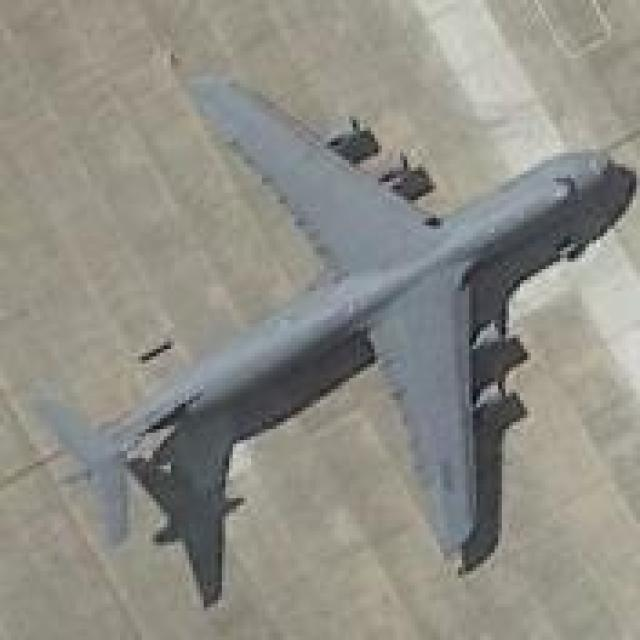C-5_TopDown: (31, 73, 639, 605)
